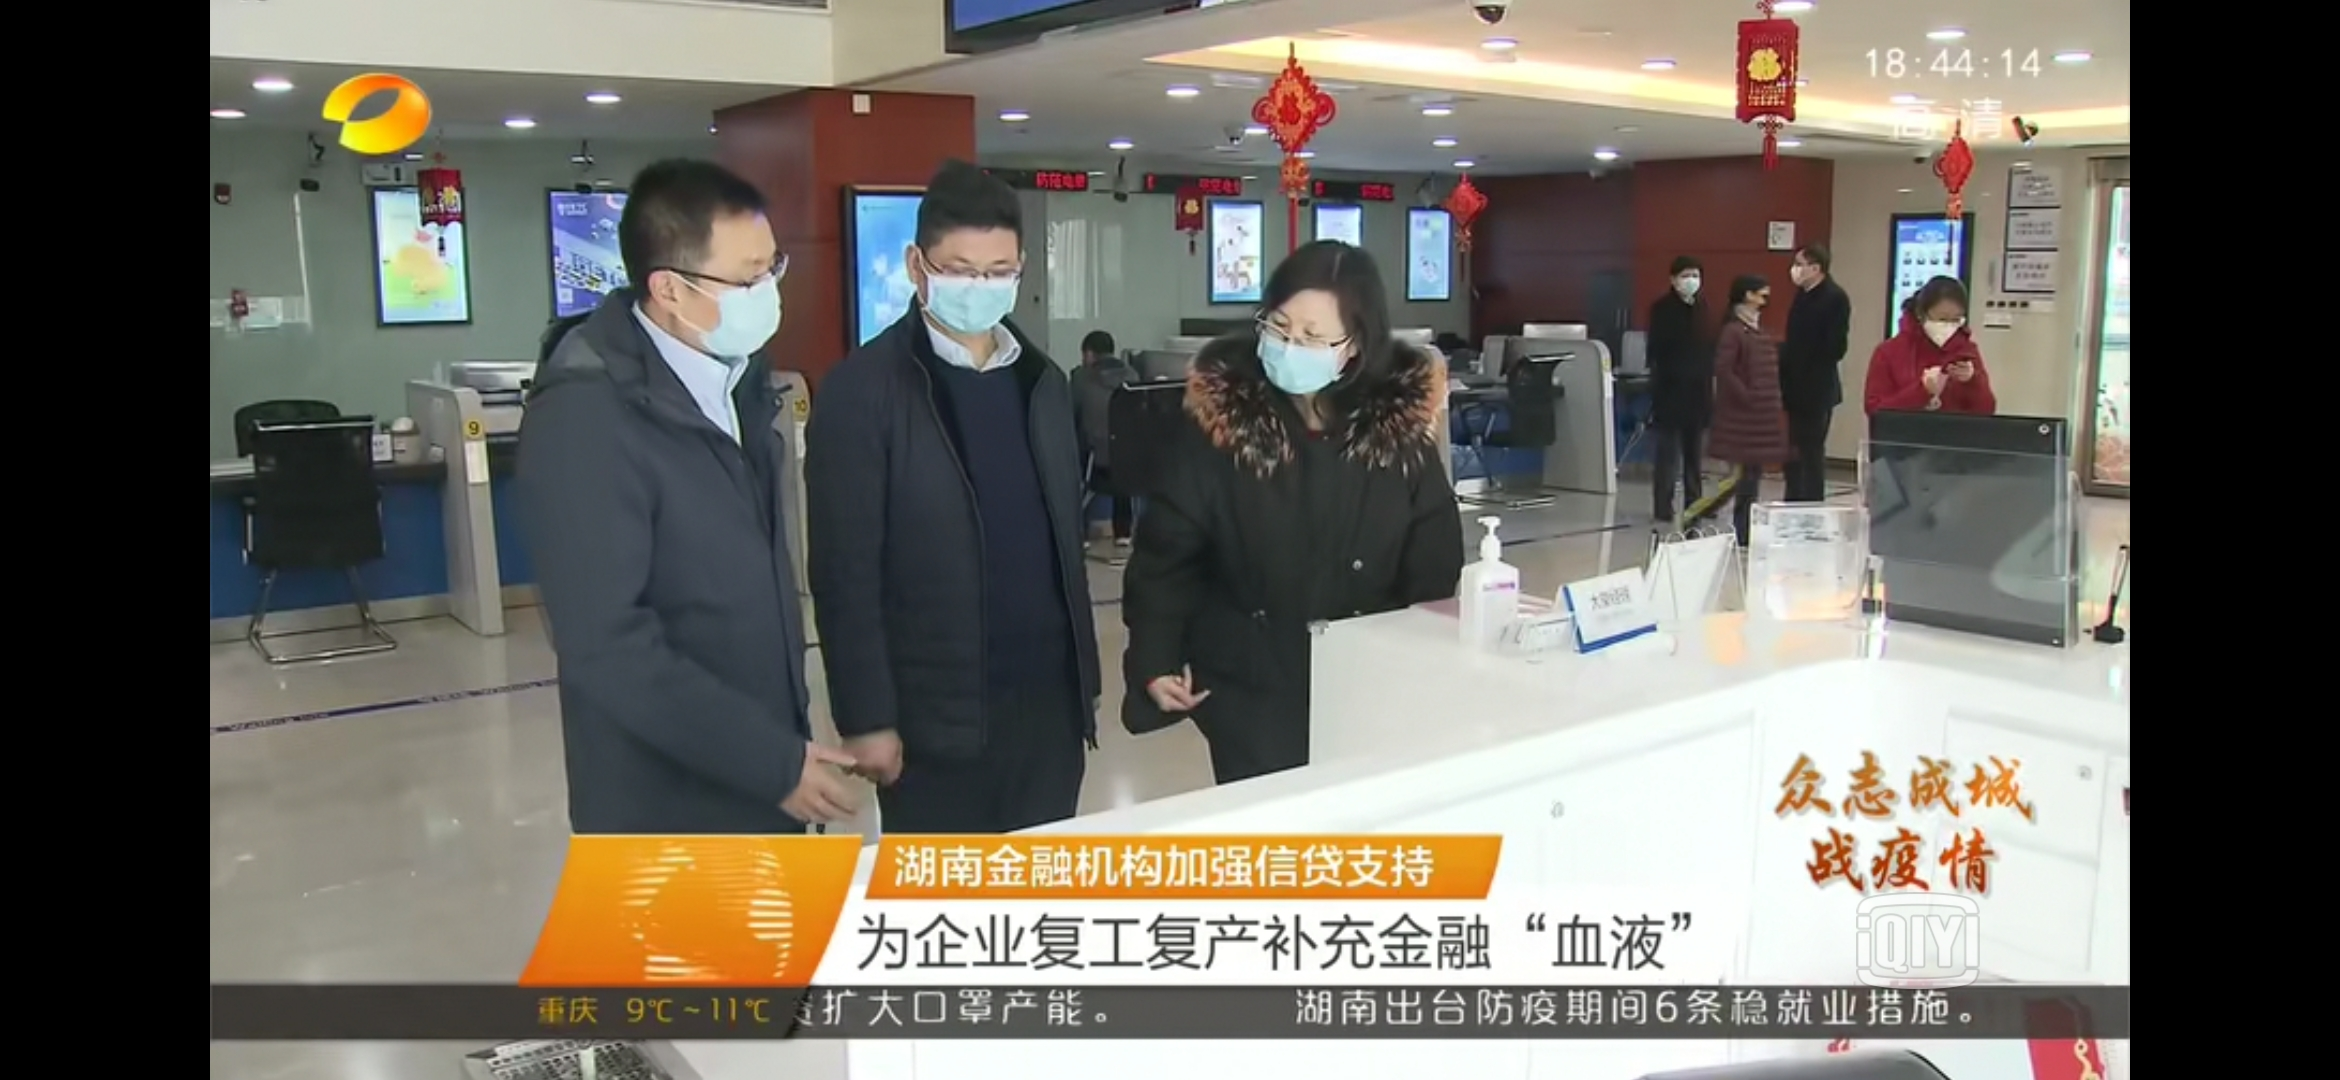correctlyWear: (652, 225, 792, 374), (907, 222, 1031, 354), (1245, 277, 1361, 409), (1922, 304, 1965, 351), (1670, 267, 1704, 301), (1789, 257, 1824, 288), (1745, 285, 1774, 309)
